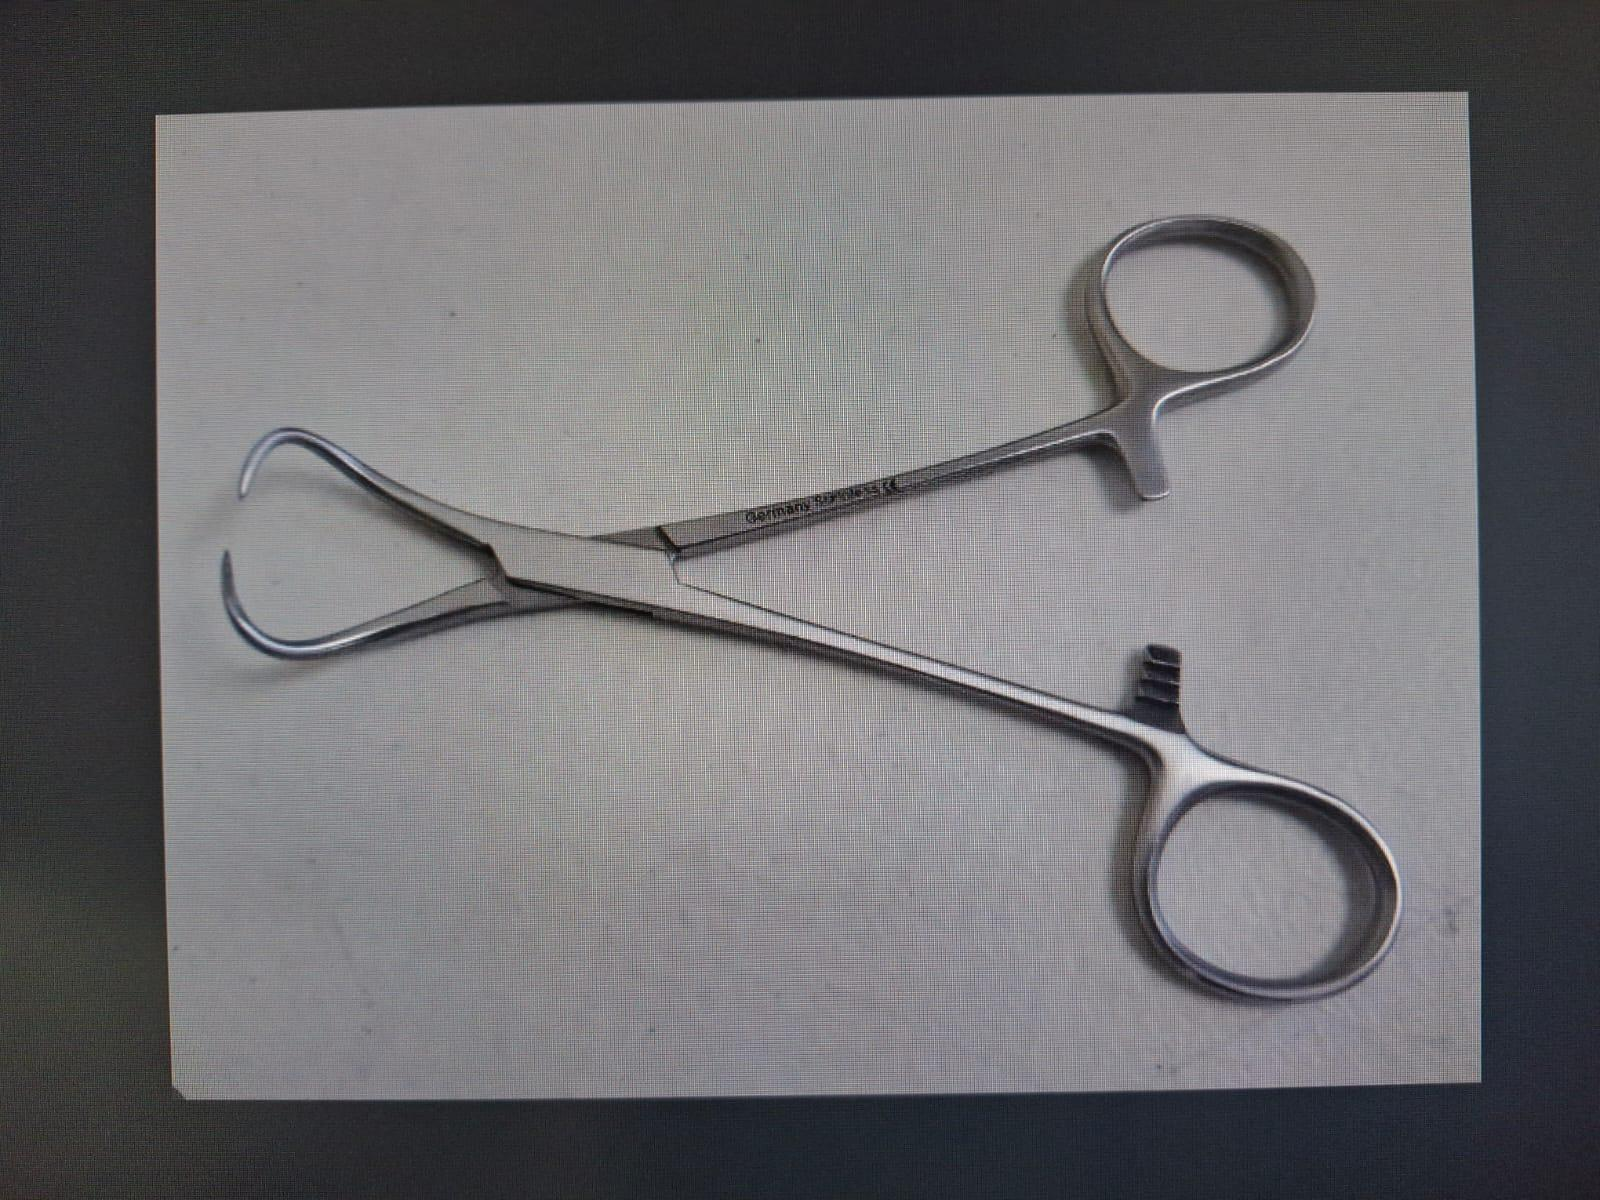Backhaus: (204, 202, 1444, 1022)
